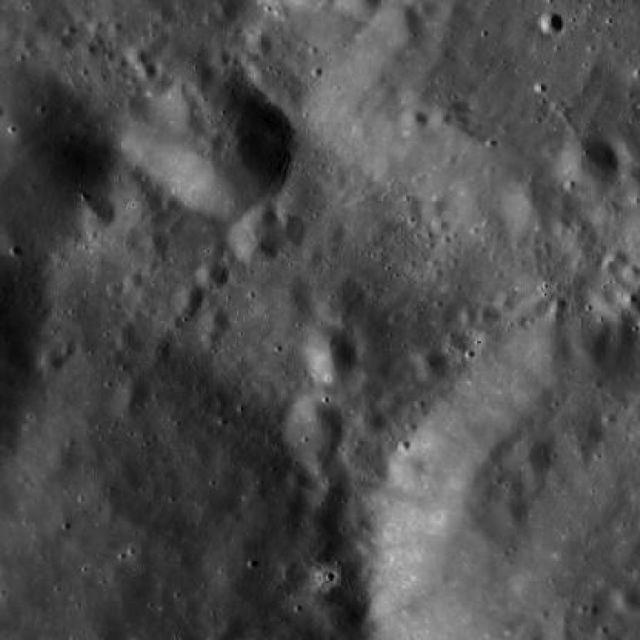crater: (138, 72, 292, 220), (0, 56, 109, 258), (282, 399, 346, 459), (556, 135, 618, 194), (302, 324, 362, 382), (228, 208, 286, 264), (314, 274, 368, 326), (274, 174, 328, 226), (371, 0, 424, 49), (557, 409, 608, 457), (572, 325, 616, 367), (311, 464, 354, 506), (112, 376, 154, 416), (272, 272, 314, 311), (513, 437, 552, 474), (305, 499, 344, 536), (180, 59, 216, 93), (416, 349, 450, 382), (354, 406, 388, 439), (170, 285, 204, 318), (82, 196, 116, 229), (272, 214, 306, 246), (498, 494, 531, 526), (197, 259, 230, 290), (522, 468, 550, 496), (204, 305, 232, 333), (614, 584, 640, 613), (245, 30, 273, 56), (592, 284, 620, 310), (307, 450, 335, 476), (198, 236, 226, 262), (147, 333, 173, 359), (42, 348, 68, 374), (400, 108, 426, 132), (539, 10, 564, 33), (422, 197, 447, 220), (125, 44, 148, 67), (322, 222, 346, 244), (114, 328, 138, 350), (438, 0, 464, 20), (617, 538, 640, 560), (430, 108, 453, 130), (446, 330, 468, 353), (202, 129, 225, 151), (479, 304, 501, 326), (396, 196, 418, 218), (217, 1, 240, 22), (608, 247, 630, 267), (202, 328, 224, 348), (621, 164, 640, 186), (291, 468, 311, 488), (136, 61, 156, 81), (125, 270, 144, 290), (156, 5, 175, 24), (458, 308, 478, 326), (304, 244, 324, 262), (144, 230, 164, 248), (106, 279, 125, 296), (76, 6, 95, 23), (212, 49, 230, 66), (623, 262, 640, 280), (144, 195, 162, 212), (434, 216, 451, 233), (550, 296, 567, 312), (168, 314, 185, 330), (19, 34, 36, 50)
